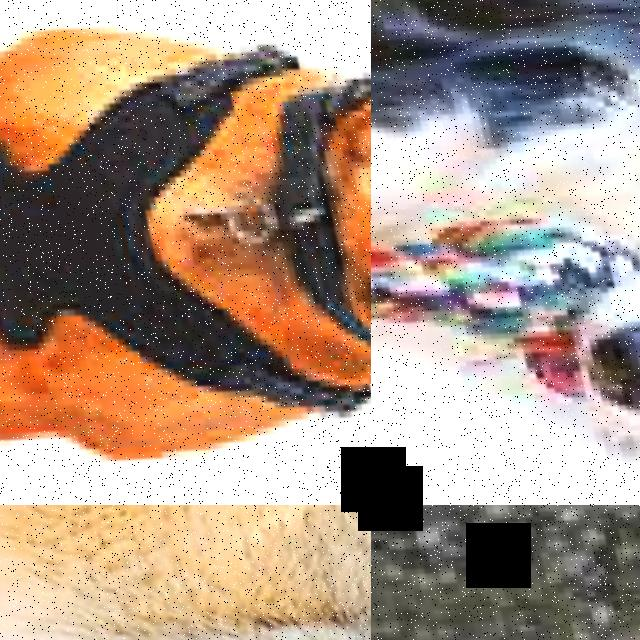dog: (0, 0, 371, 505), (371, 0, 640, 505)
wolf: (0, 505, 371, 640), (371, 564, 640, 640)
